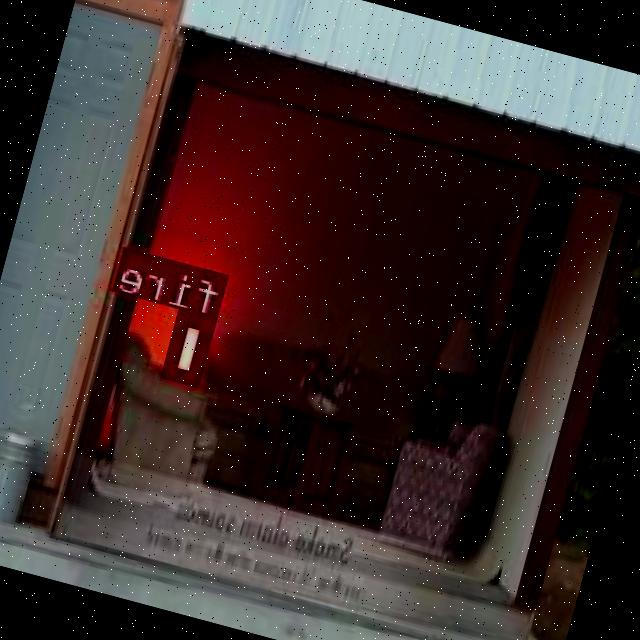fire: (166, 308, 217, 383)
